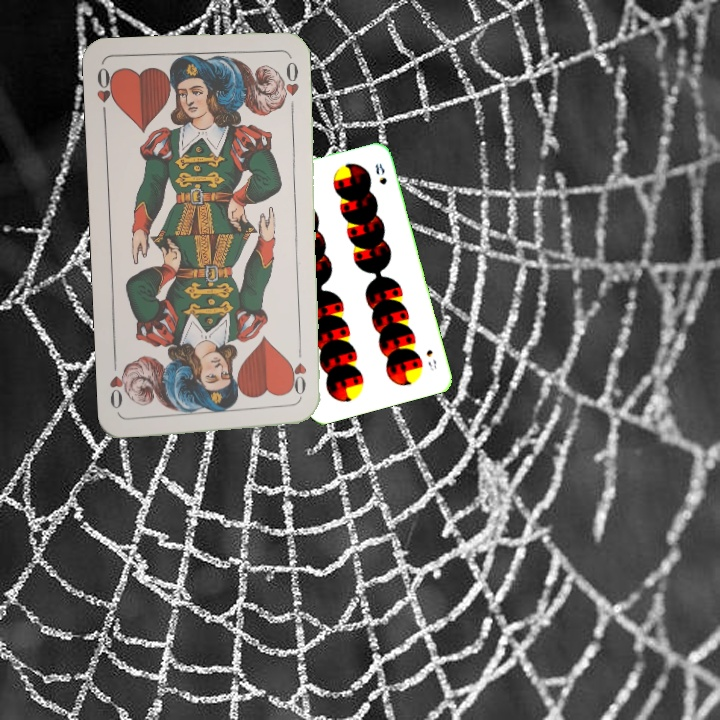HO: (92, 64, 118, 122), (288, 345, 310, 404)
S8: (422, 346, 439, 373)
